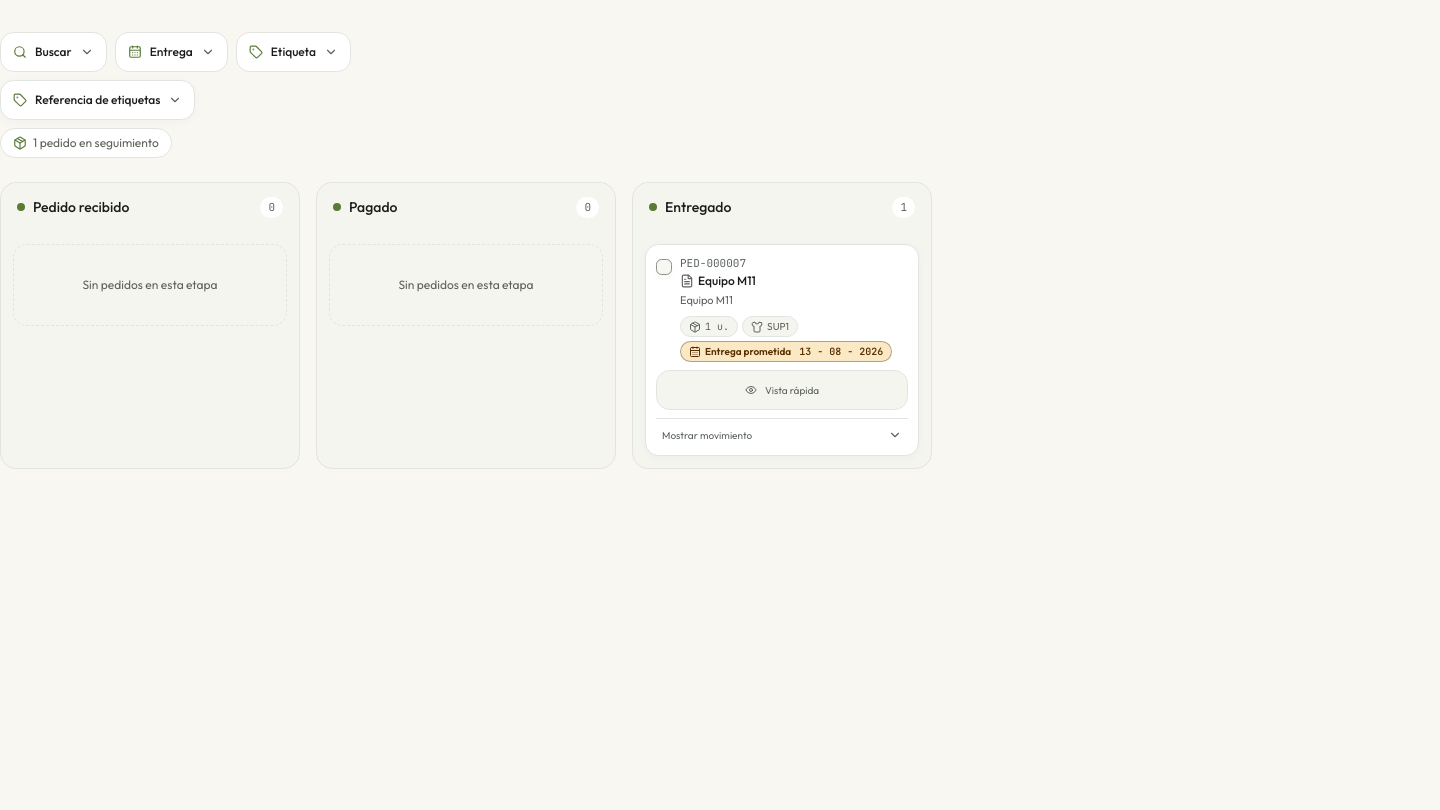
order board bulk lifecycle actions › shows one minimal aggregate success notice without repeating per-order success
Click the checkbox named "Seleccionar PED-000007" at [664, 266], box [656, 258, 672, 274]
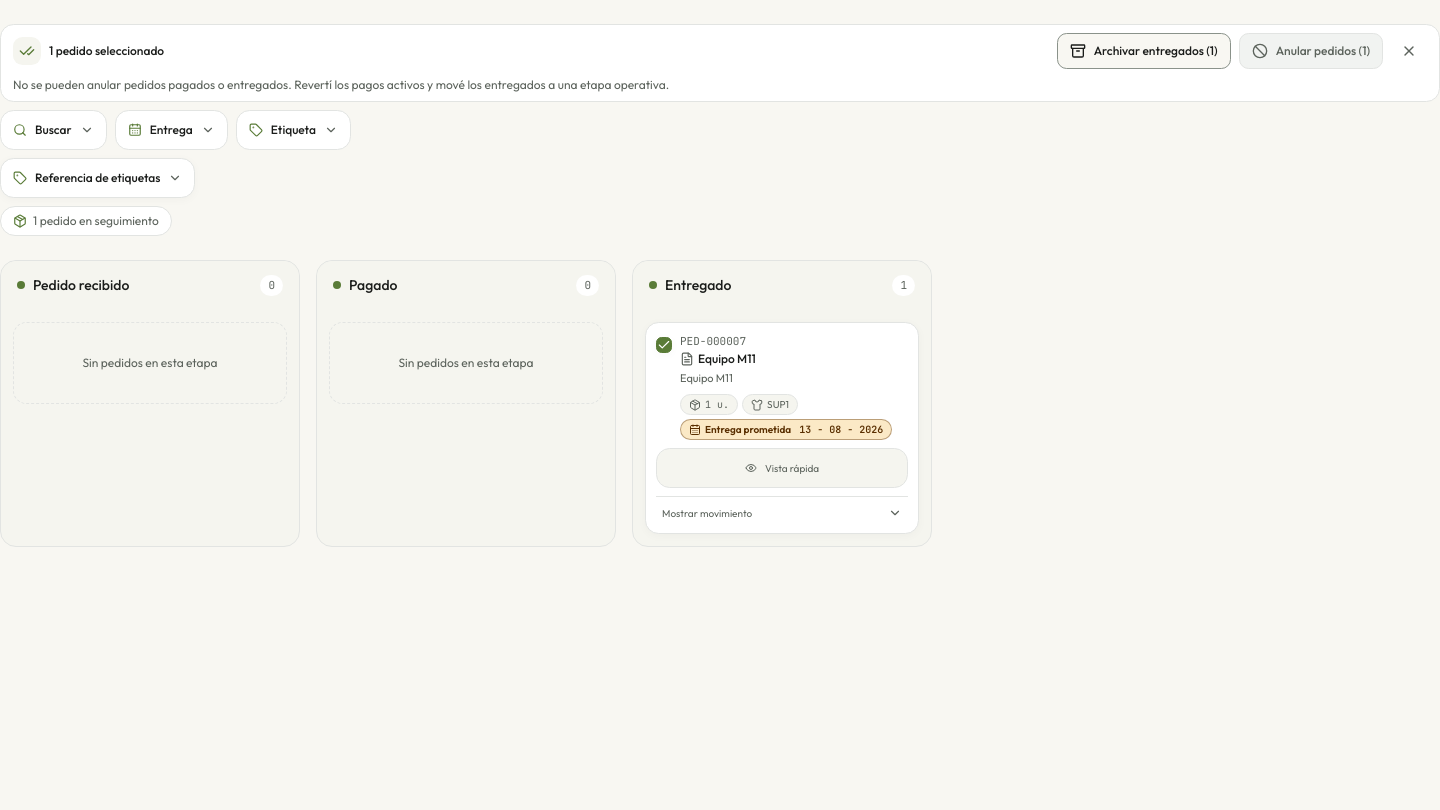
Click the button "Archivar entregados (1)" at [1144, 51], box [1057, 33, 1231, 69]
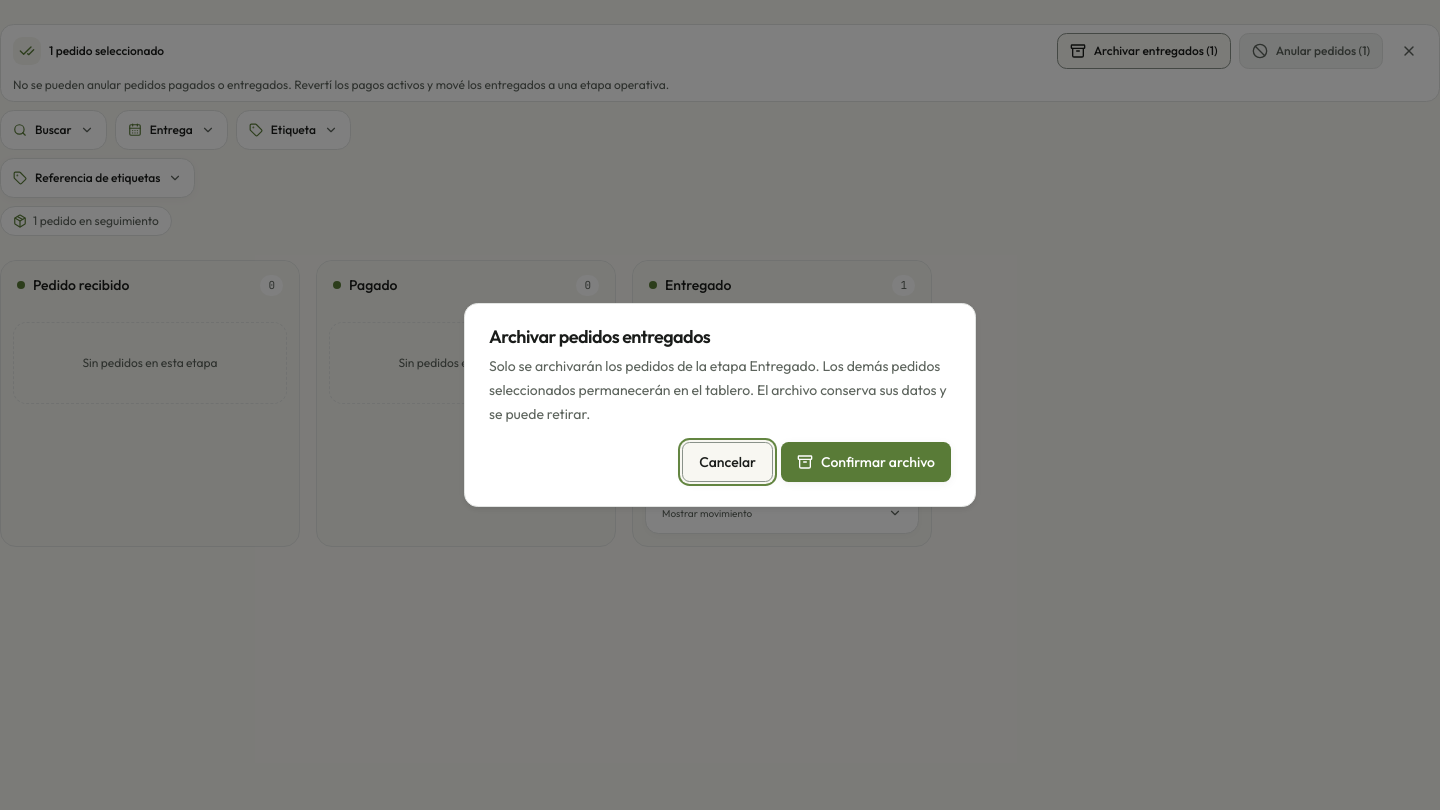
Click the button "Confirmar archivo" at [866, 462], box [781, 442, 951, 482]
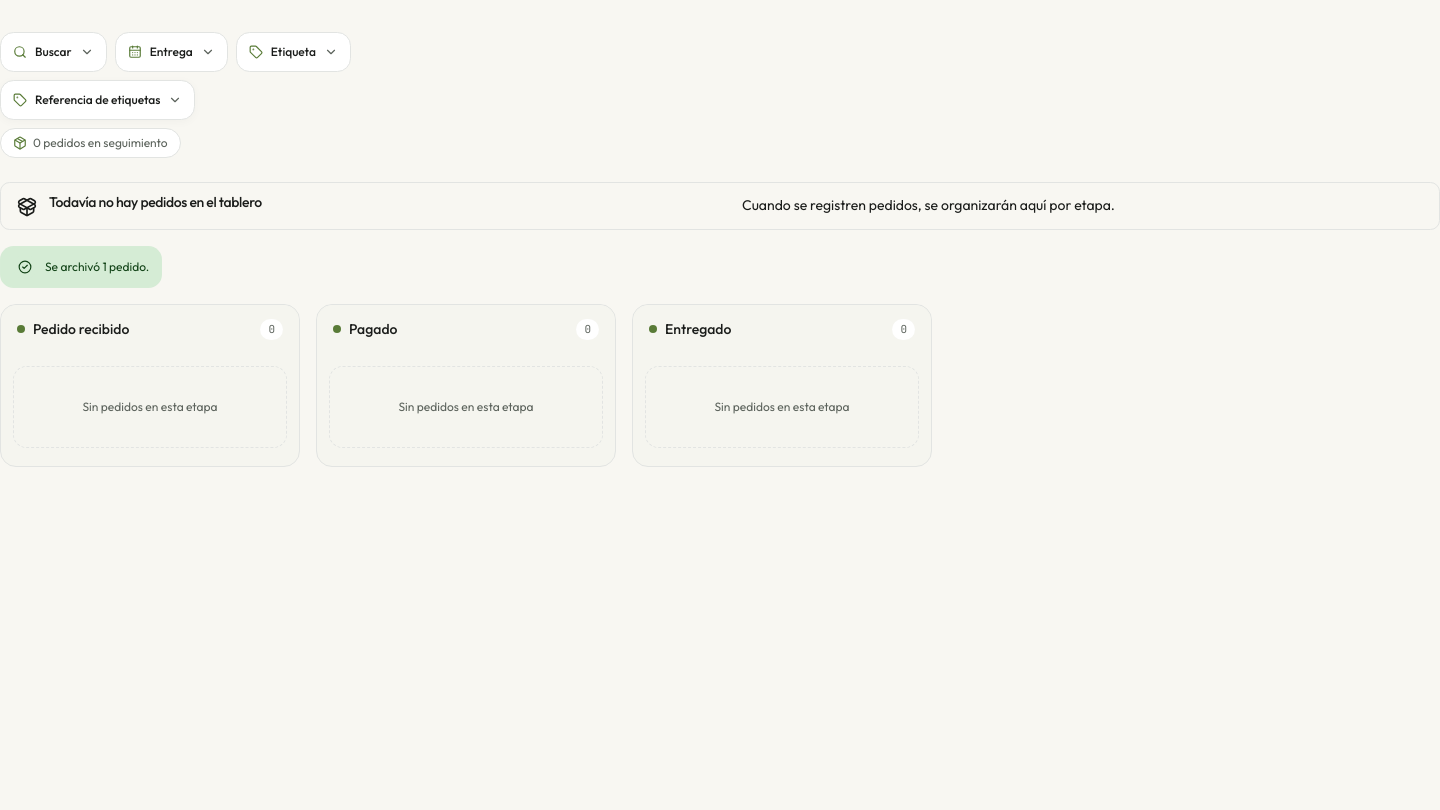
Now the text "Se archivó 1 pedido." is shown, box [0, 246, 162, 288]
